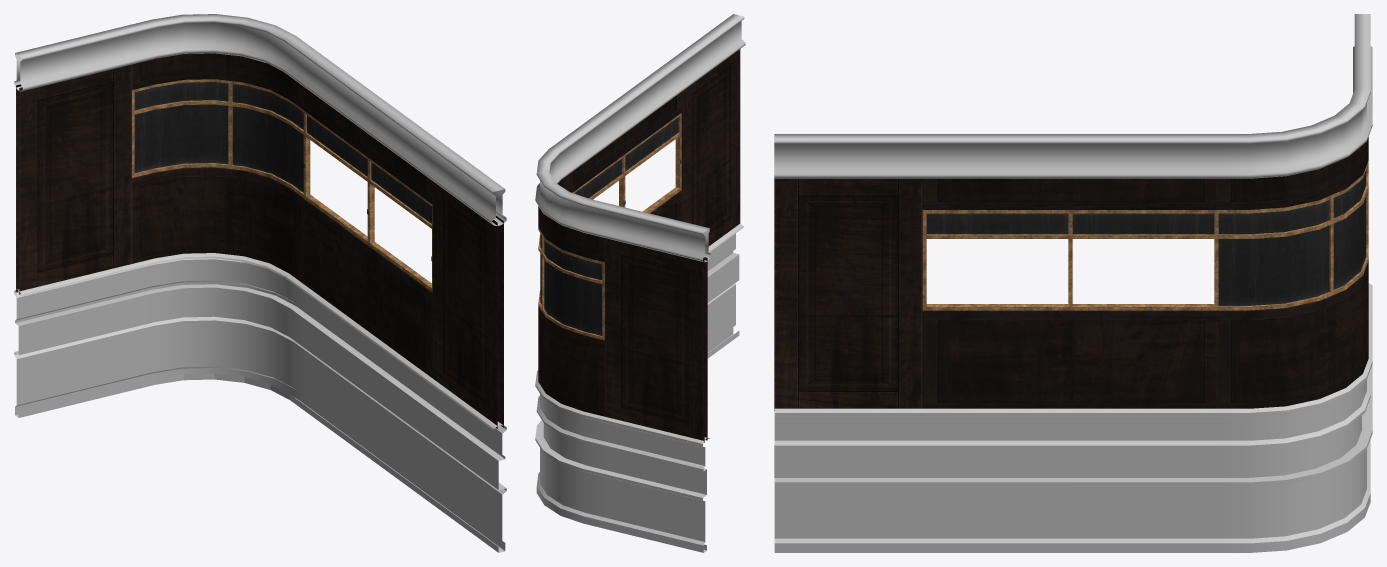
The model's file is engineroom_balcony_office_corner_01.DAE.
3 renders of one model, left to right at view 1: azimuth 30°, elevation 25°; view 2: azimuth 150°, elevation 25°; view 3: azimuth 270°, elevation 25°, orthographic. The views are drawn at different scales.
Visible parts, largest first — view 1: Box005, balcony_corner_metal002, Plane002, balcony_corner_bricks002, Box006; view 2: Box005, balcony_corner_metal002, Plane002, balcony_corner_bricks002, Box006; view 3: balcony_corner_metal002, Box005, Plane002, balcony_corner_bricks002, Box006.
Part boxes in pixels (x1,y1,x2,y2): Box005: [16, 53, 503, 428]; balcony_corner_metal002: [14, 14, 506, 552]; Plane002: [134, 82, 431, 223]; balcony_corner_bricks002: [18, 287, 498, 489]; Box006: [132, 79, 432, 291]; Box005: [538, 49, 740, 442]; balcony_corner_metal002: [535, 14, 745, 552]; Plane002: [540, 117, 678, 335]; balcony_corner_bricks002: [543, 254, 739, 494]; Box006: [538, 113, 681, 340]; balcony_corner_metal002: [774, 14, 1372, 552]; Box005: [774, 137, 1368, 410]; Plane002: [926, 170, 1366, 305]; balcony_corner_bricks002: [774, 415, 1361, 477]; Box006: [922, 160, 1368, 310].
Size of the model in its own units: 4.08 by 6.14 by 8.08.
